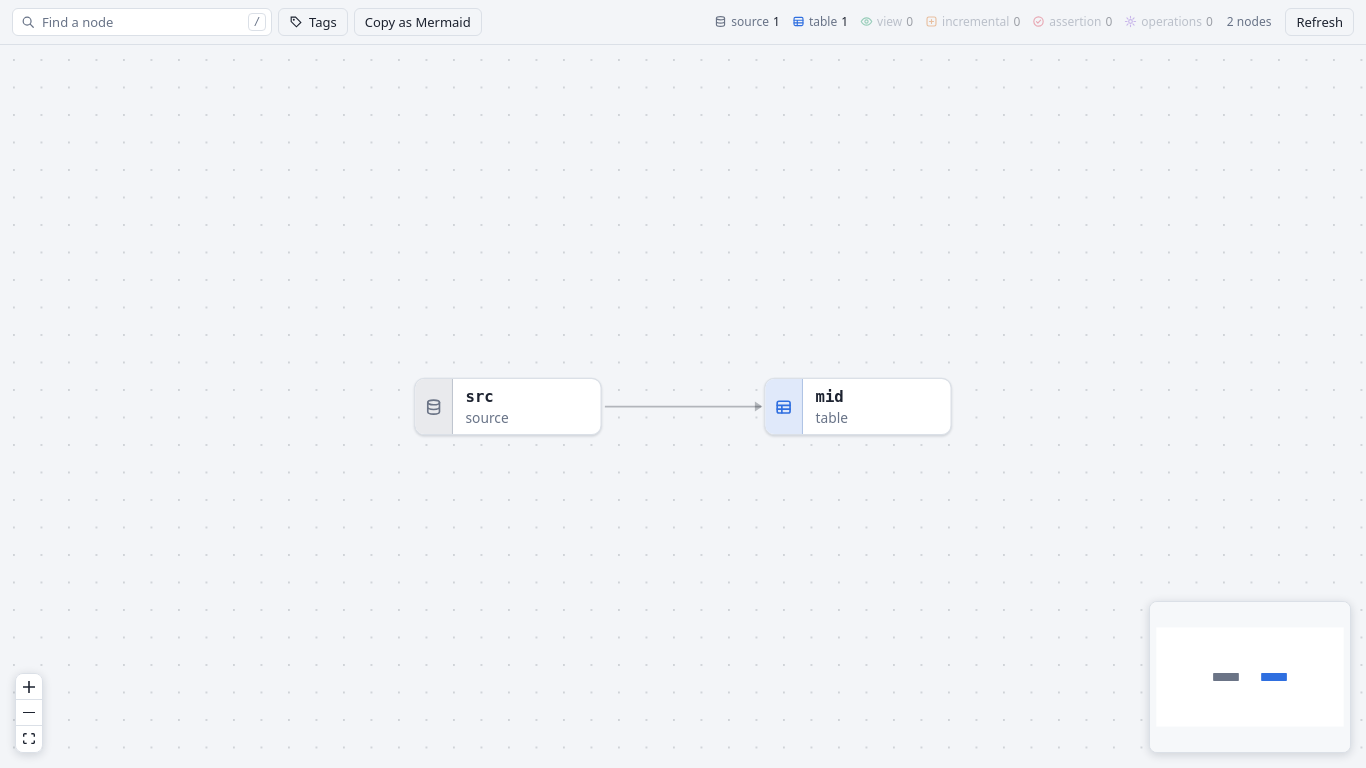
Scenario: tag filter › narrows the graph and reports the filtered count against the total
Expected: the text "2 nodes" is shown, 1227,14 -> 1271,30
Click the button "Tags".
click(313, 22)  # box 278,8 -> 348,36
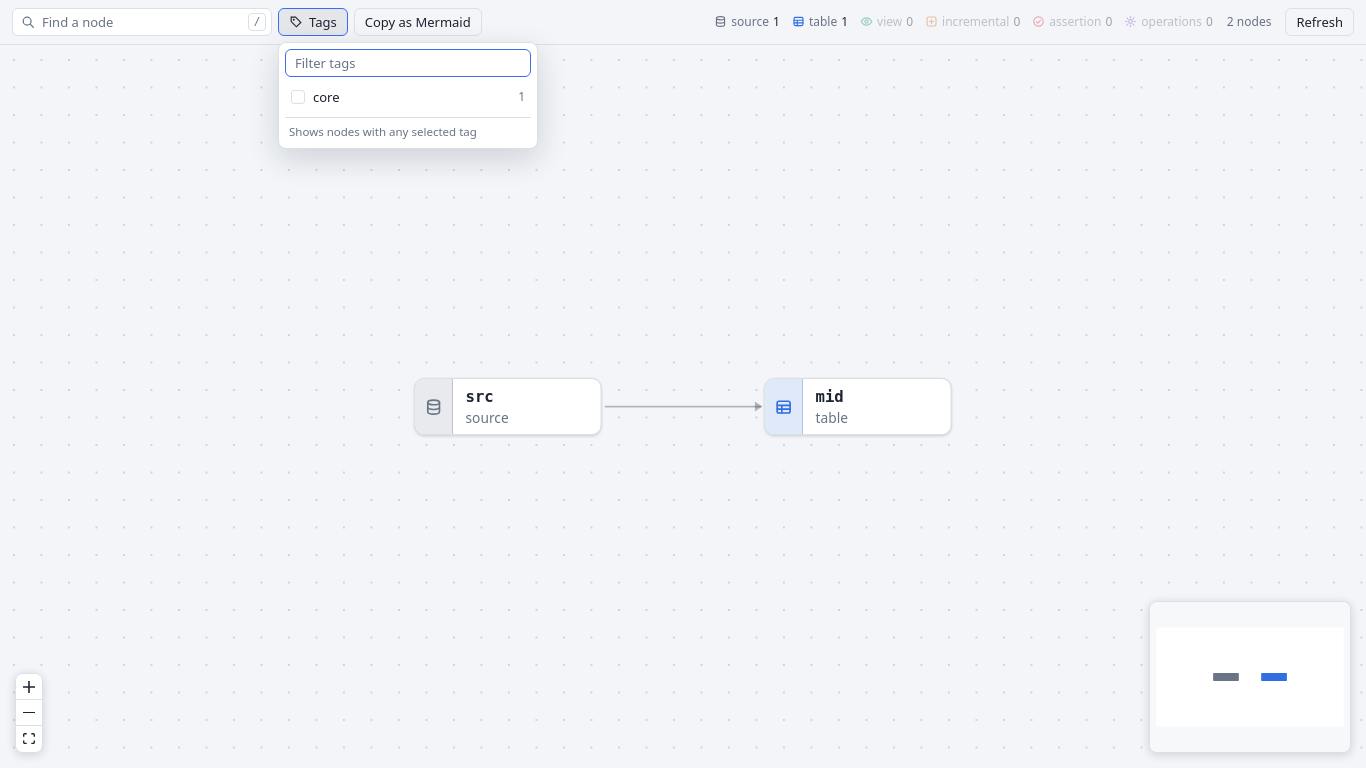
Click the menu item "core 1".
click(408, 97)  # box 285,83 -> 531,111
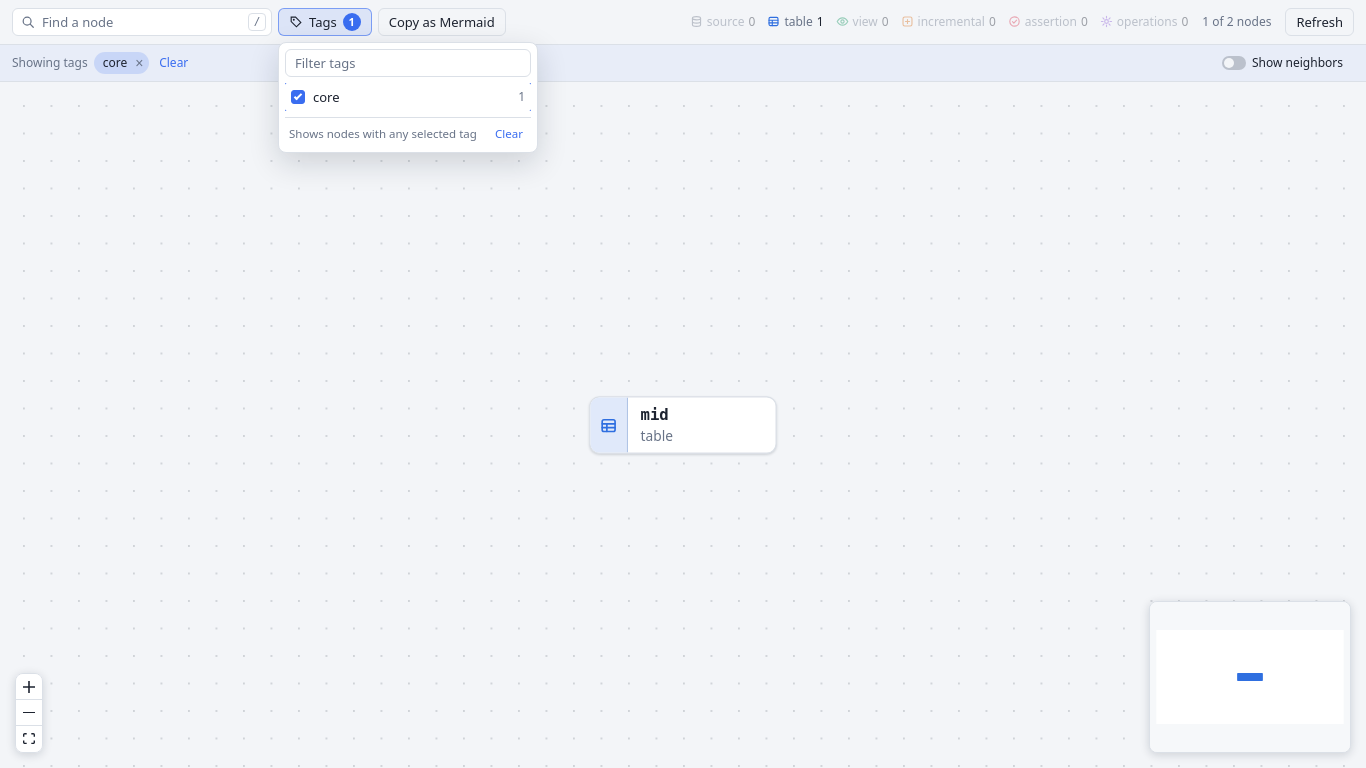
Result: the text "1 of 2 nodes" is shown at 1202,14 -> 1271,30
